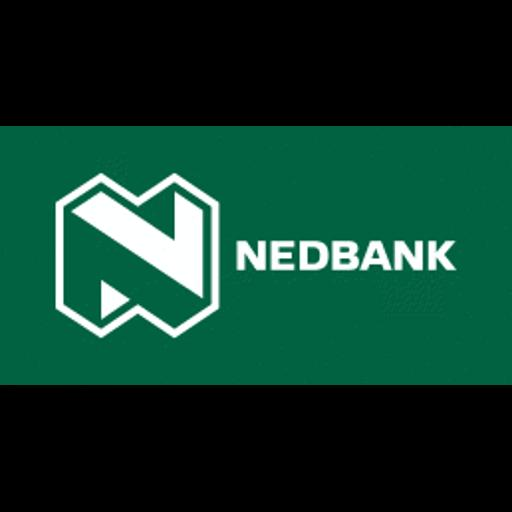NedBank Limited: (0, 126, 512, 385)
